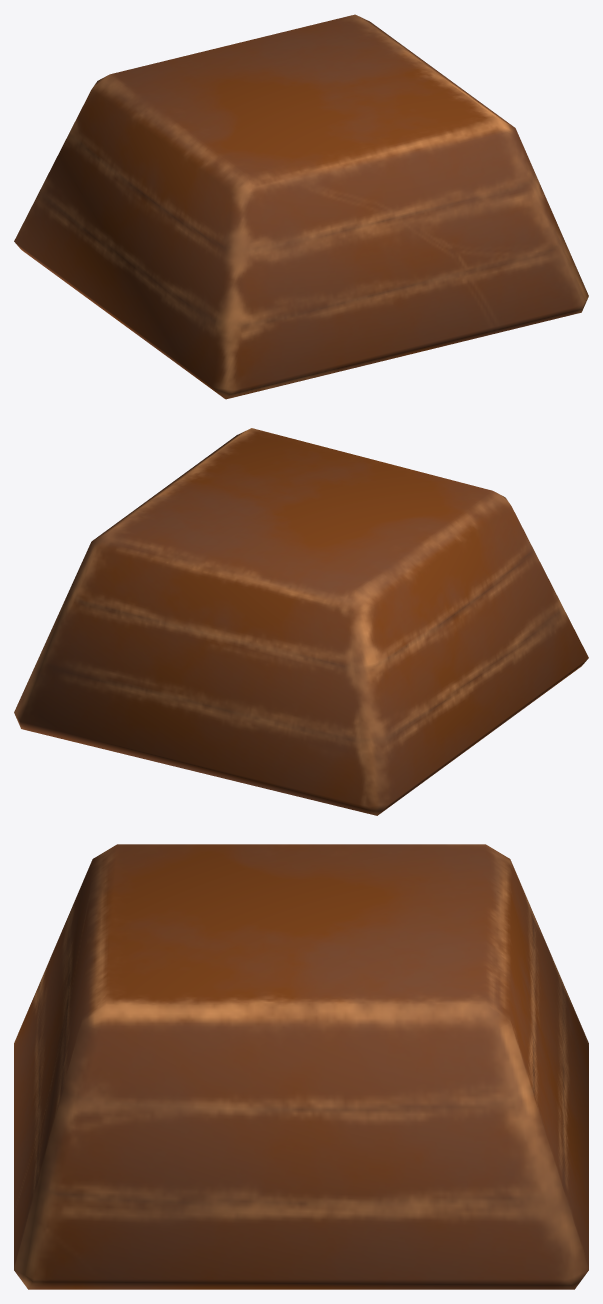
File: trapezoid.fbx
3 views of the same model, one above another, from view 1: azimuth 30°, elevation 25°; view 2: azimuth 150°, elevation 25°; view 3: azimuth 270°, elevation 25° (orthographic). The views are drawn at different scales.
Parts seen in each view (by area): view 1: part3_low; view 2: part3_low; view 3: part3_low.
Part boxes in pixels (x1,y1,x2,y2): part3_low: (14,14,588,399); part3_low: (14,428,588,815); part3_low: (14,844,588,1289).
Bounding box in the file's own units: 1586 × 1575 × 753.
